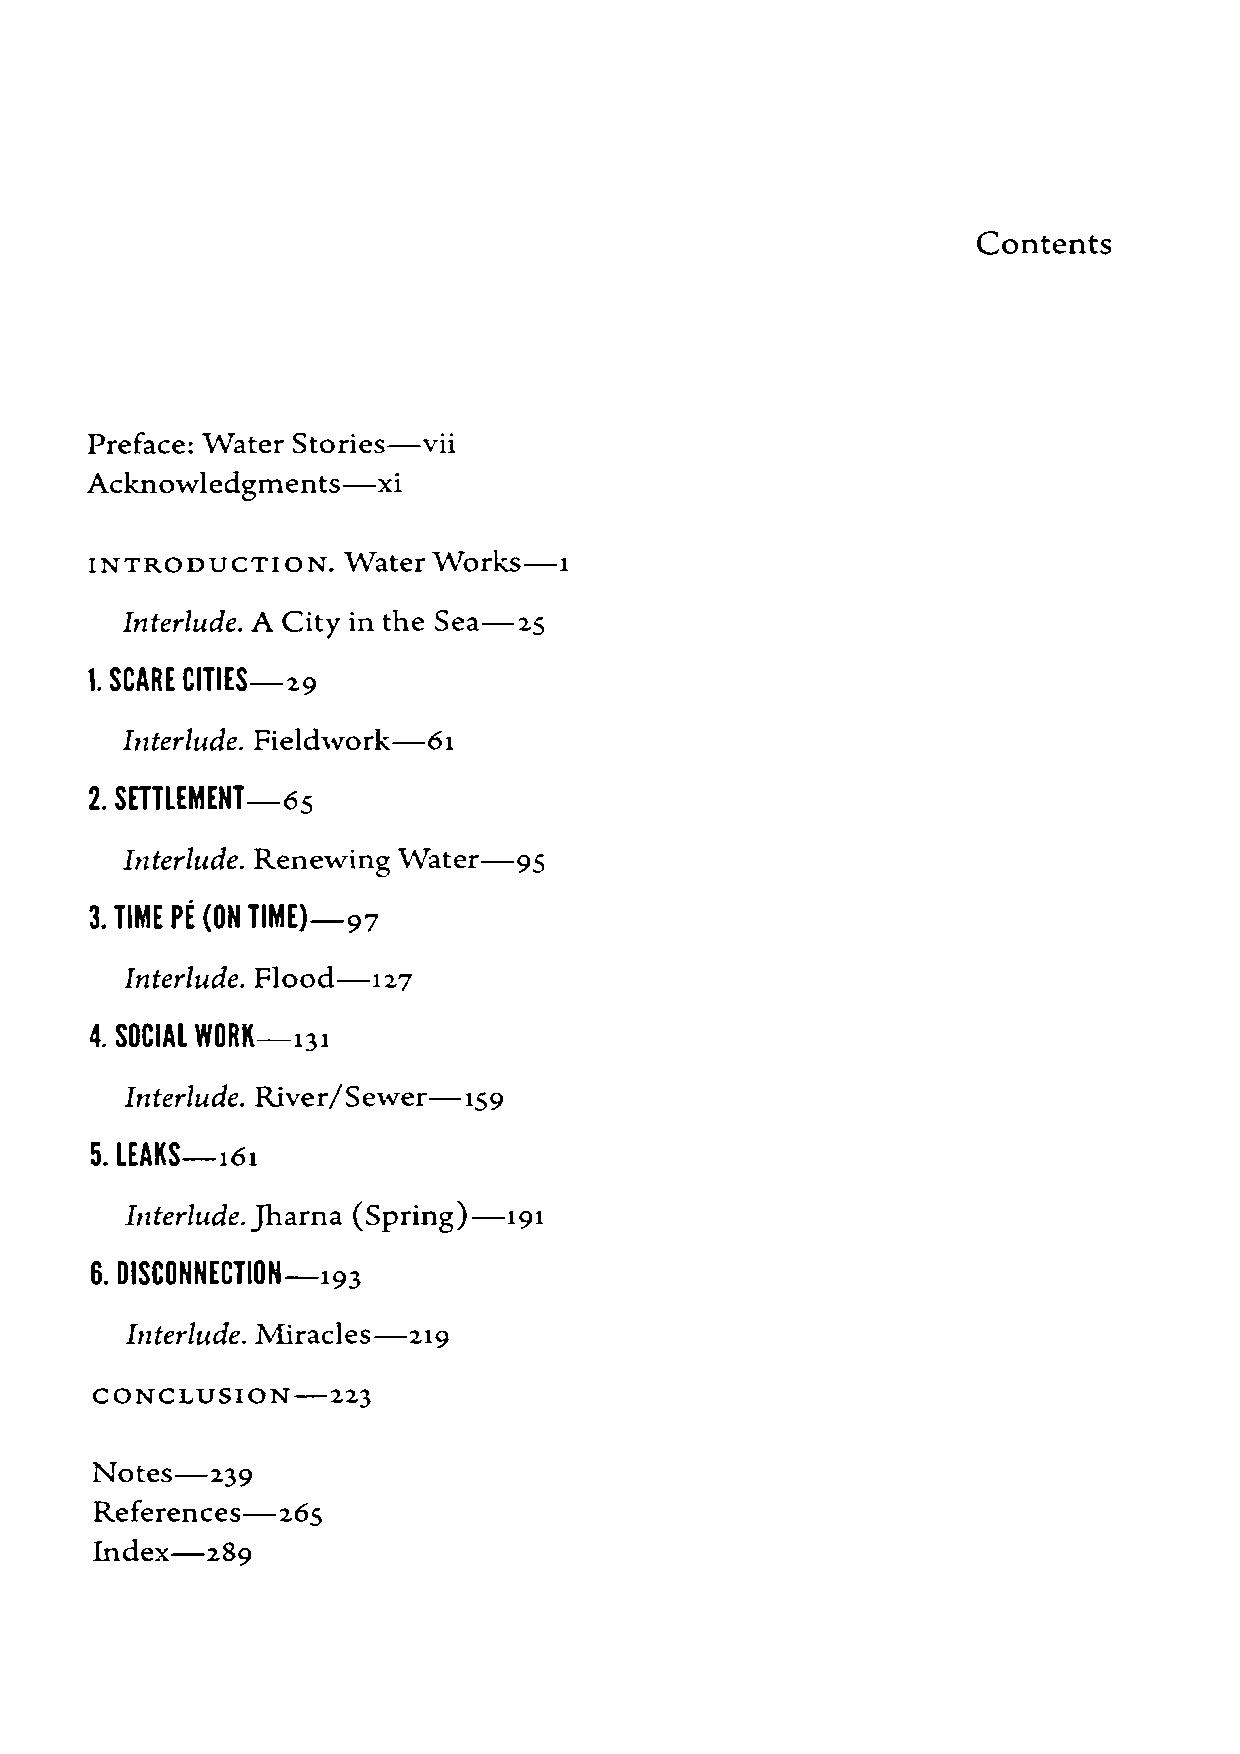TOC_chapter: (121, 843, 482, 879), (119, 1198, 467, 1235), (115, 607, 483, 637), (85, 548, 523, 573), (86, 429, 386, 460), (117, 1080, 428, 1110), (85, 468, 341, 503), (122, 723, 391, 756), (89, 896, 310, 933), (125, 1318, 374, 1349), (118, 960, 335, 993), (89, 1253, 285, 1290), (82, 1019, 258, 1052), (81, 780, 246, 815), (85, 662, 248, 697), (89, 1382, 291, 1406), (91, 1499, 242, 1525), (85, 1139, 183, 1170), (91, 1455, 174, 1486), (90, 1537, 169, 1566)
TOC_pagenumber: (279, 786, 327, 820), (205, 1537, 254, 1569), (317, 1261, 366, 1292), (291, 1028, 335, 1062), (463, 1084, 507, 1117), (510, 608, 552, 641), (216, 1142, 262, 1172), (370, 968, 419, 994), (276, 1499, 325, 1526), (417, 428, 459, 459), (408, 1321, 450, 1351), (505, 1201, 544, 1232), (209, 1463, 255, 1488), (515, 845, 550, 878), (329, 1384, 372, 1409), (285, 671, 325, 697), (424, 726, 456, 756), (344, 911, 381, 934), (374, 470, 405, 493), (553, 556, 578, 573)
chapter: (977, 221, 1118, 262)
